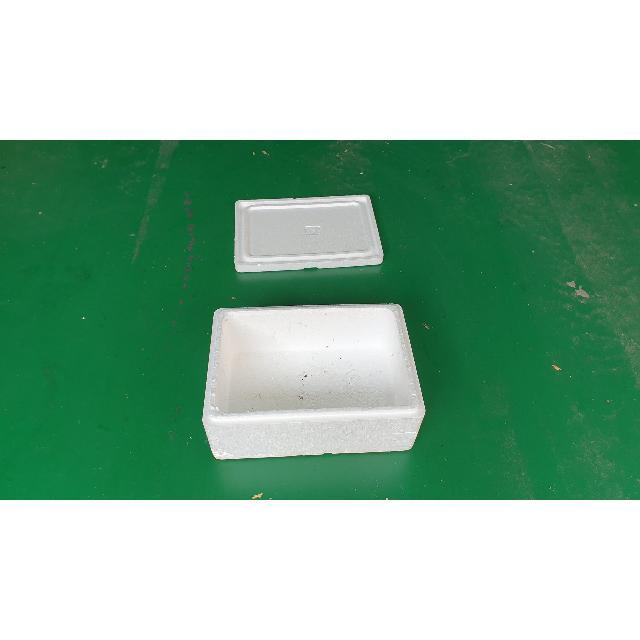Recipiente plastico: (202, 305, 425, 459), (235, 197, 382, 272)
